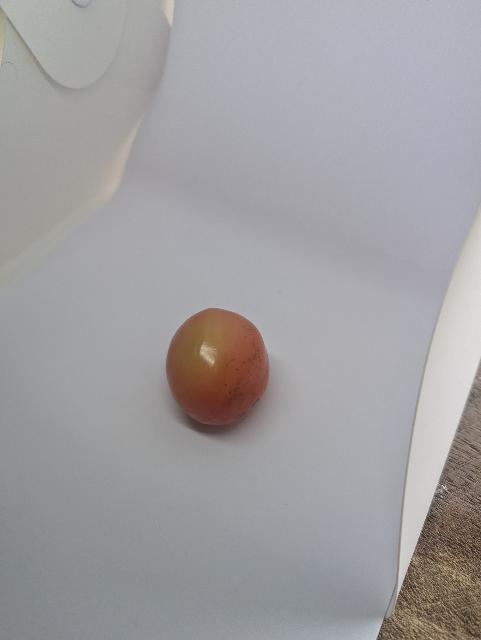turning: (155, 306, 285, 432)
